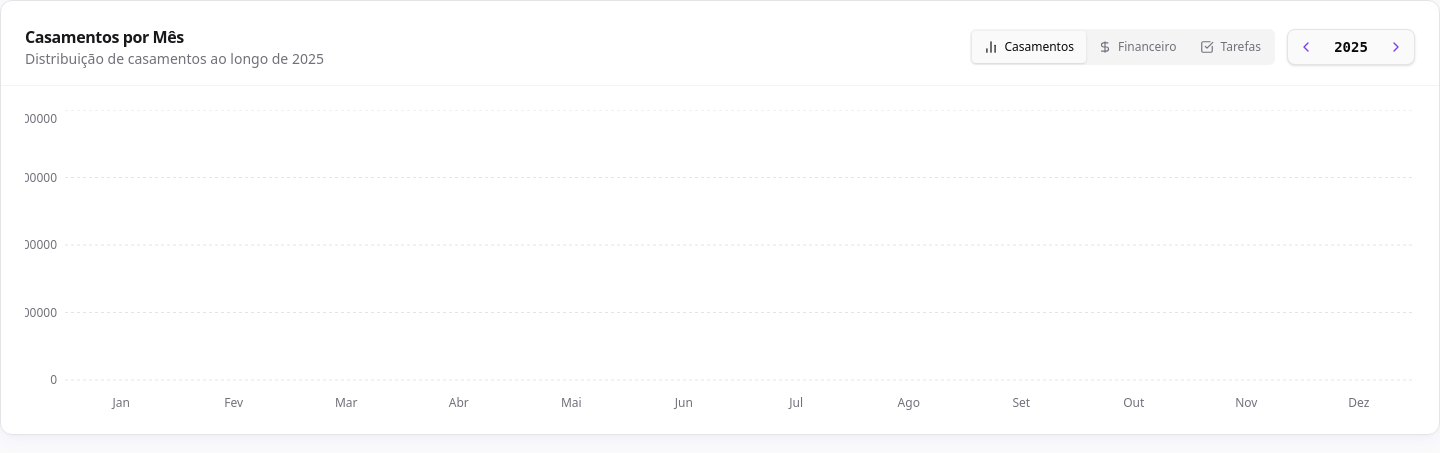
it: WeddingMonthlyChart › switches to Tarefas tab and shows expected content
Step 1. Click the tab "Tarefas" → (1231, 47), box x1=1188 y1=31 x2=1273 y2=63
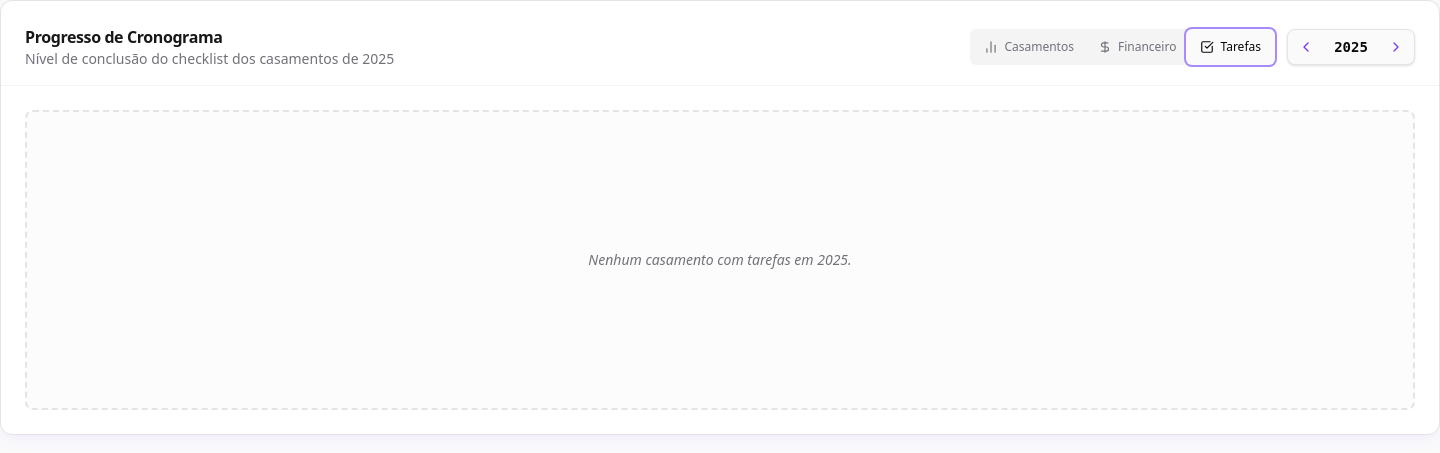
Result: the heading "Progresso de Cronograma" is shown at x1=25 y1=26 x2=222 y2=48
Result: the text "Nível de conclusão do checklist dos casamentos de 2025" is shown at x1=25 y1=49 x2=394 y2=69
